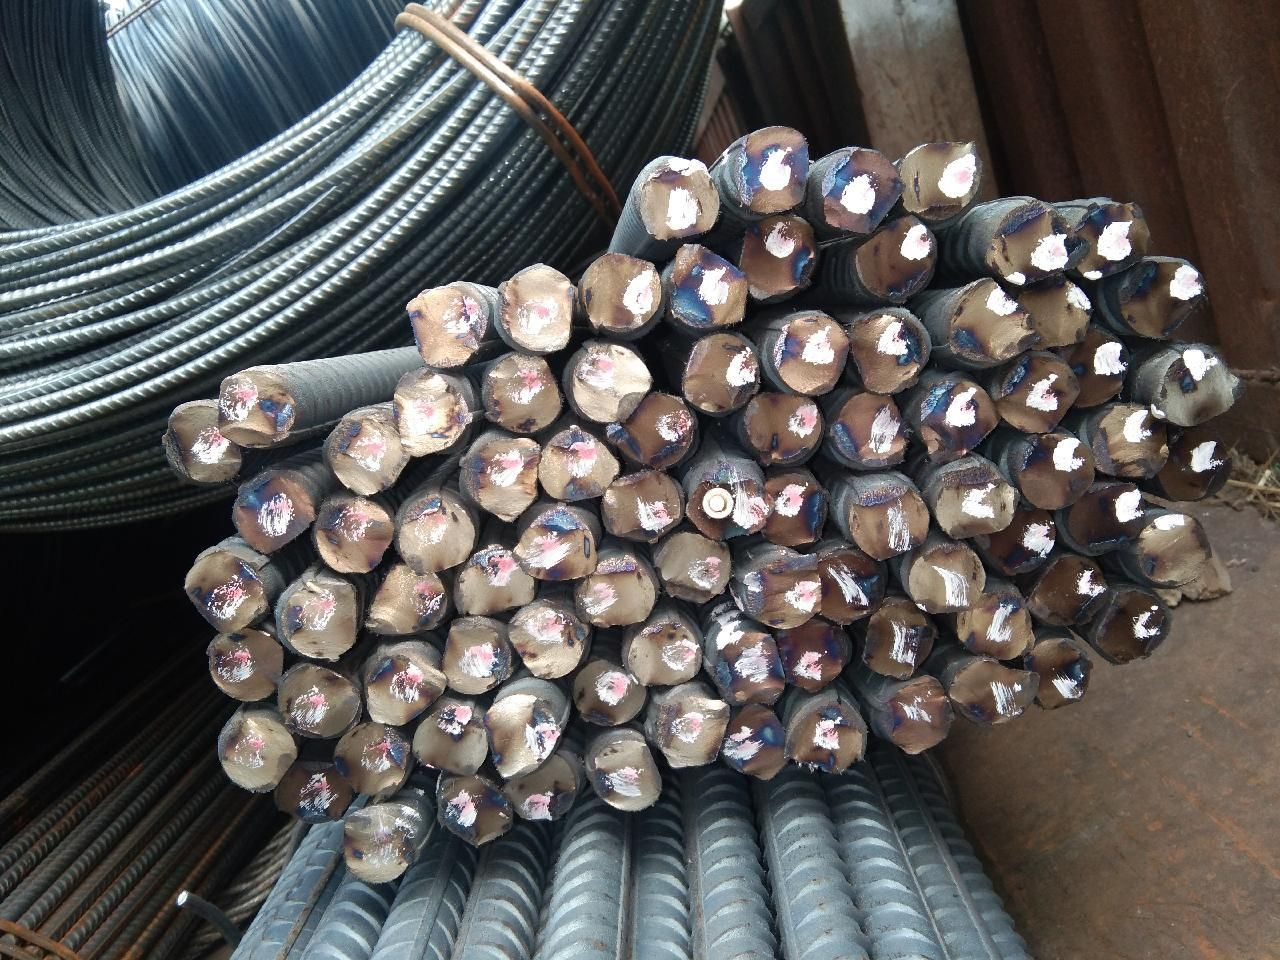rebar: (389, 364, 477, 461), (817, 145, 907, 236), (632, 151, 722, 241), (988, 199, 1077, 288), (177, 549, 269, 636), (270, 573, 359, 663), (1114, 258, 1205, 345), (392, 486, 480, 576), (662, 243, 749, 333), (947, 276, 1033, 367), (993, 351, 1083, 437), (158, 400, 251, 484), (459, 432, 544, 521), (213, 708, 300, 795), (498, 263, 582, 354), (322, 411, 410, 496), (481, 691, 564, 780), (228, 469, 315, 554), (738, 212, 818, 304), (897, 131, 983, 217), (577, 249, 663, 333), (788, 691, 867, 783), (481, 351, 564, 437), (844, 480, 931, 562), (214, 368, 303, 448), (363, 644, 447, 728), (516, 501, 600, 586), (537, 423, 623, 505), (586, 733, 666, 821), (311, 494, 398, 575), (682, 329, 763, 415), (405, 279, 484, 368), (850, 309, 927, 398), (1091, 397, 1174, 480), (572, 340, 653, 426), (739, 122, 812, 216), (277, 661, 361, 742), (1072, 198, 1153, 282), (1157, 348, 1242, 429), (950, 656, 1041, 731), (337, 806, 418, 887), (933, 462, 1017, 542), (1018, 430, 1098, 513), (860, 212, 935, 299), (409, 700, 491, 781), (1028, 555, 1113, 632), (770, 316, 851, 396), (430, 770, 514, 848), (502, 747, 582, 828), (202, 628, 285, 704), (580, 551, 658, 629), (623, 387, 700, 467), (1130, 512, 1216, 584), (508, 602, 587, 680), (655, 692, 732, 771), (739, 389, 823, 461), (682, 476, 773, 543), (811, 546, 886, 626), (367, 564, 449, 636), (337, 720, 408, 803), (922, 378, 999, 455), (1161, 431, 1239, 506), (1066, 481, 1145, 556), (457, 544, 536, 617), (884, 677, 955, 758), (572, 654, 650, 729), (862, 598, 934, 678), (723, 702, 791, 786), (1097, 589, 1173, 663), (1024, 274, 1097, 352), (909, 543, 986, 615), (840, 388, 909, 467), (603, 468, 682, 536), (654, 533, 734, 602), (956, 592, 1034, 662), (1069, 322, 1129, 411), (751, 561, 826, 631), (627, 616, 700, 687), (782, 618, 851, 694), (1033, 634, 1098, 714), (438, 620, 503, 696), (278, 757, 351, 824), (723, 627, 788, 701), (995, 507, 1060, 575), (775, 479, 832, 550), (1170, 548, 1234, 611)
